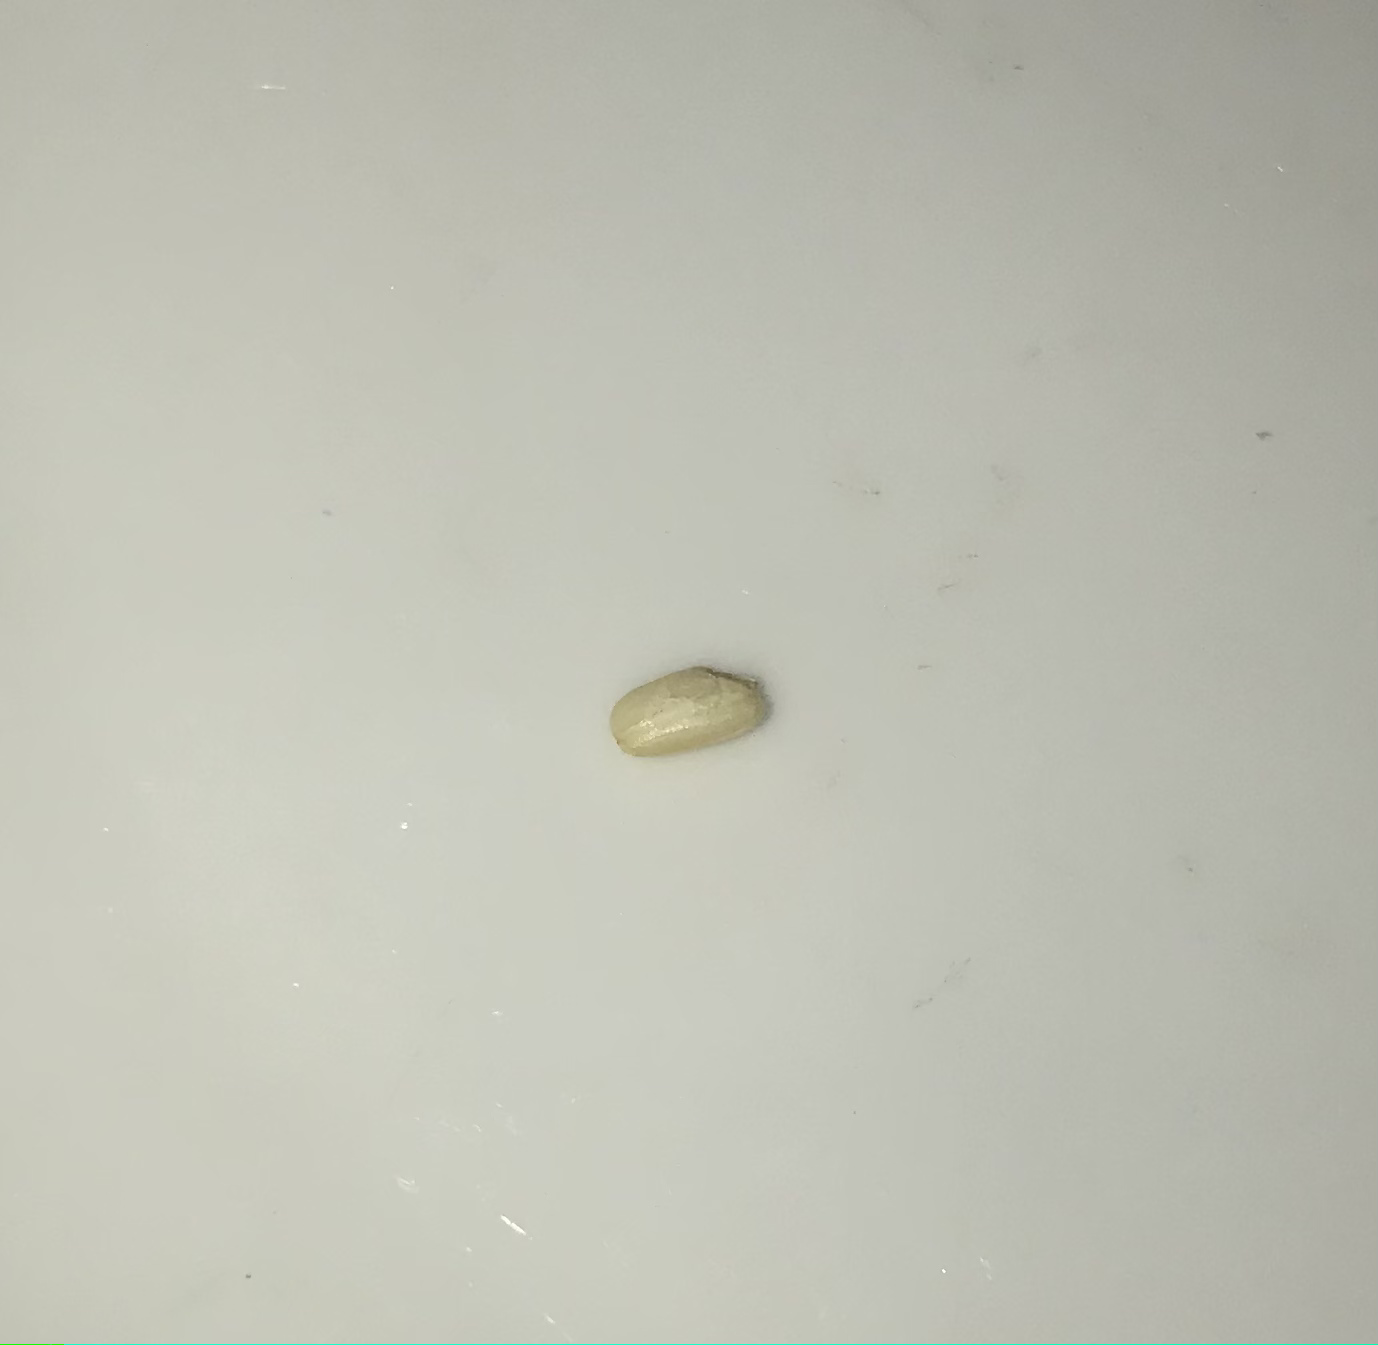Gao Lut Bac: (603, 652, 789, 767)
